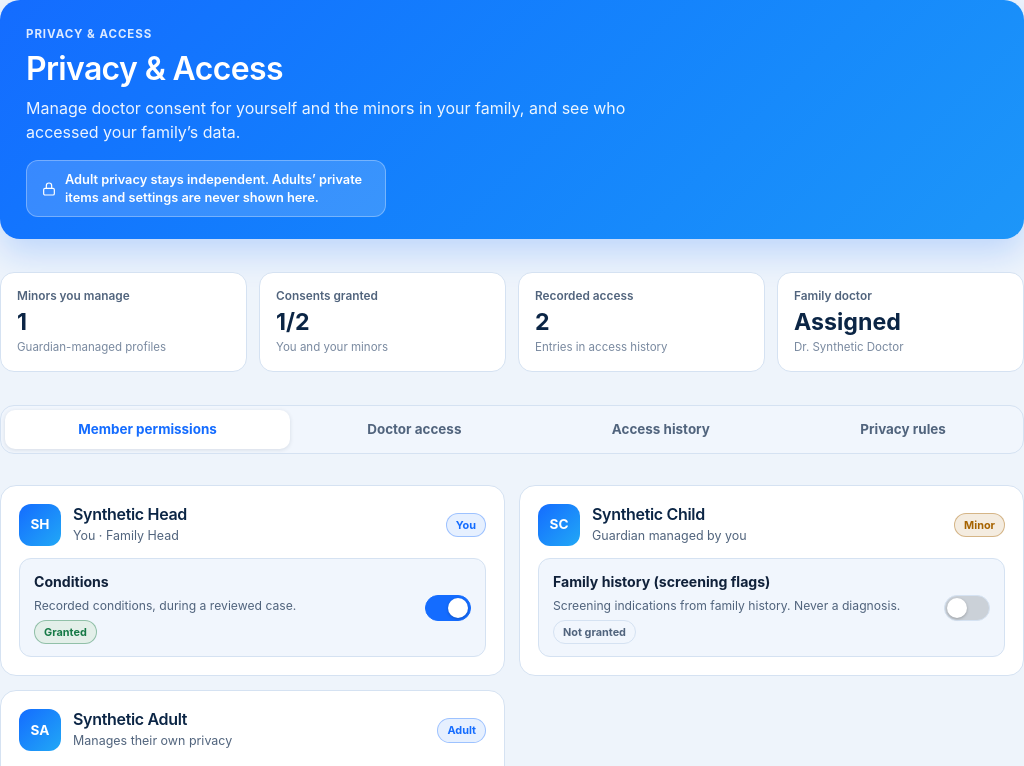
Test: PrivacyPage (Family Head) › grants a minor consent through a real switch and never shows adult toggles
The width and height of the screenshot is (1024, 766).
Click the switch named "Family history (screening flags) consent for Synthetic Child" at [967, 608], box [944,595,990,621]
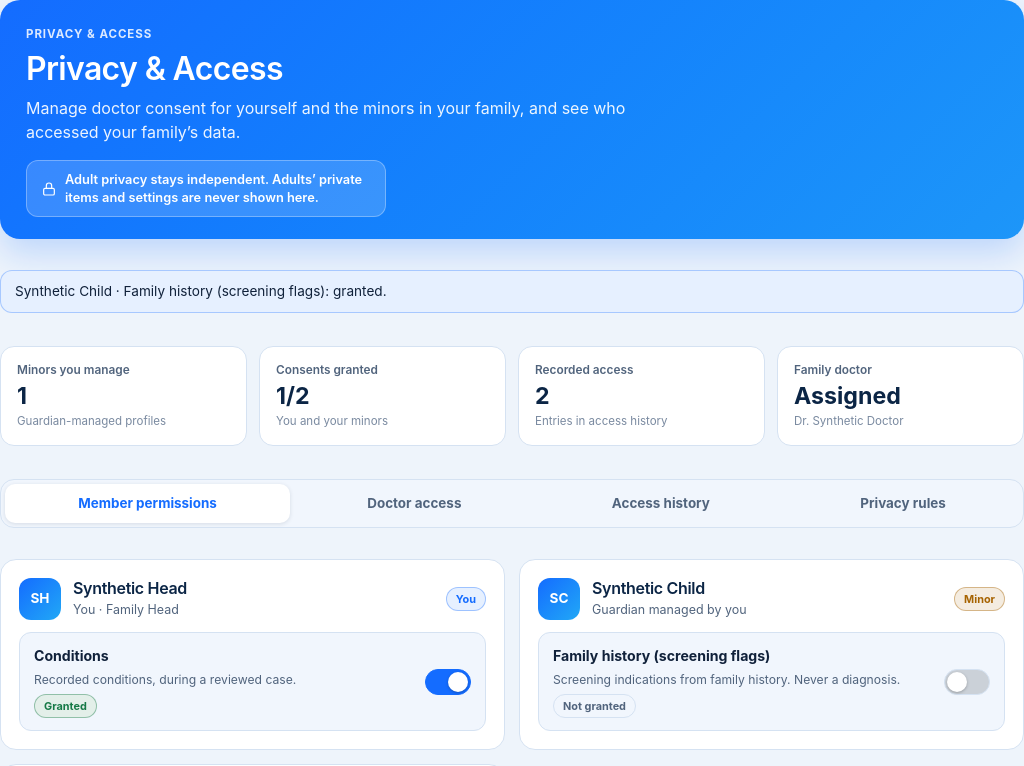
Now the message shows "Synthetic Child", box [15,283,387,299]
